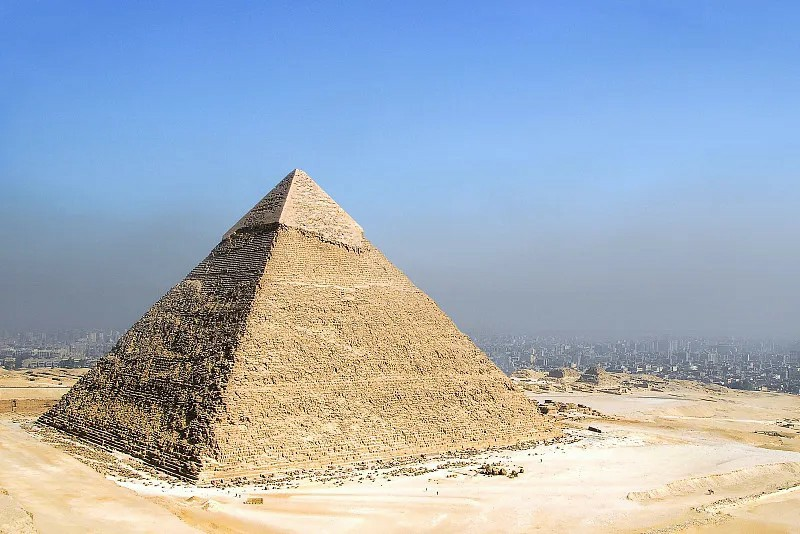Pyramid: (36, 168, 568, 481)
